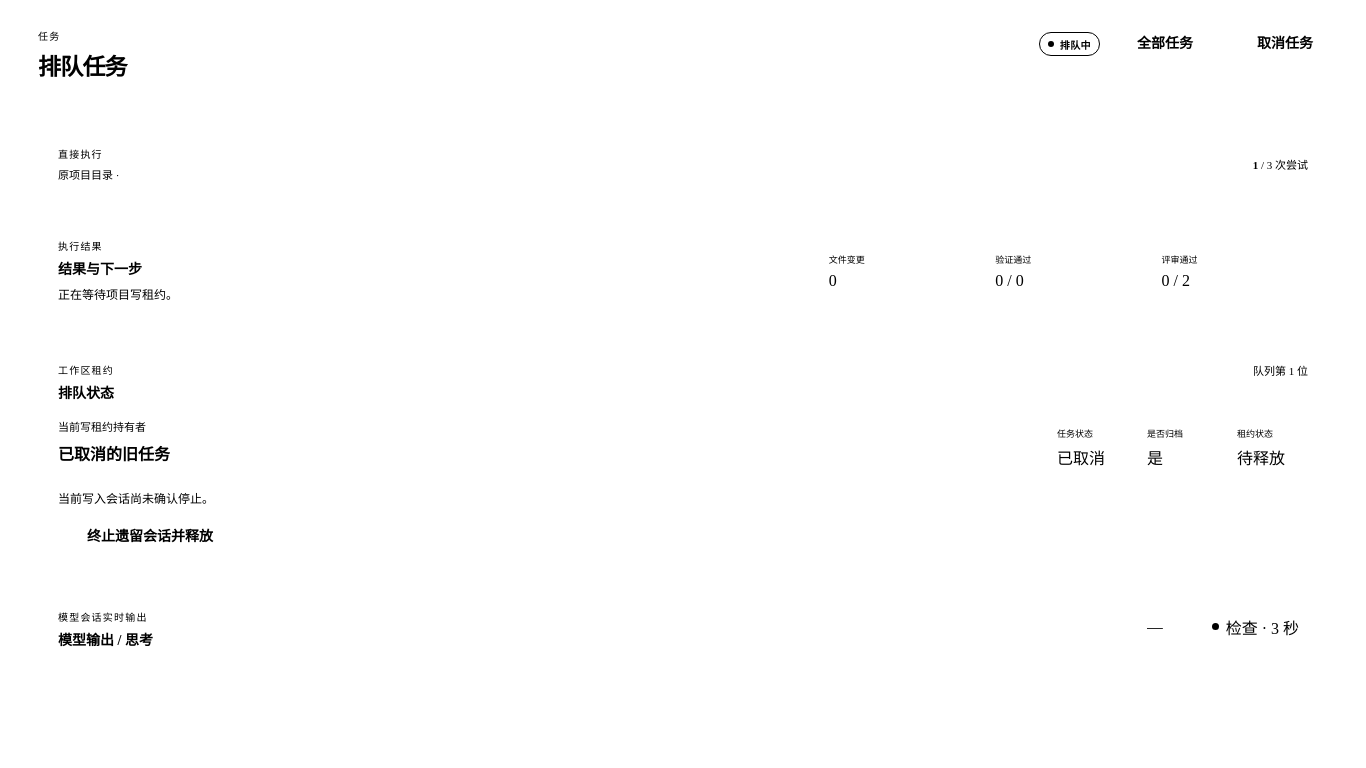
Test case: TaskDetailView judge action › keeps the blocker visible when manual reconciliation returns a 409 reason
Click the button "终止遗留会话并释放": (143, 537) x1=58 y1=521 x2=228 y2=553
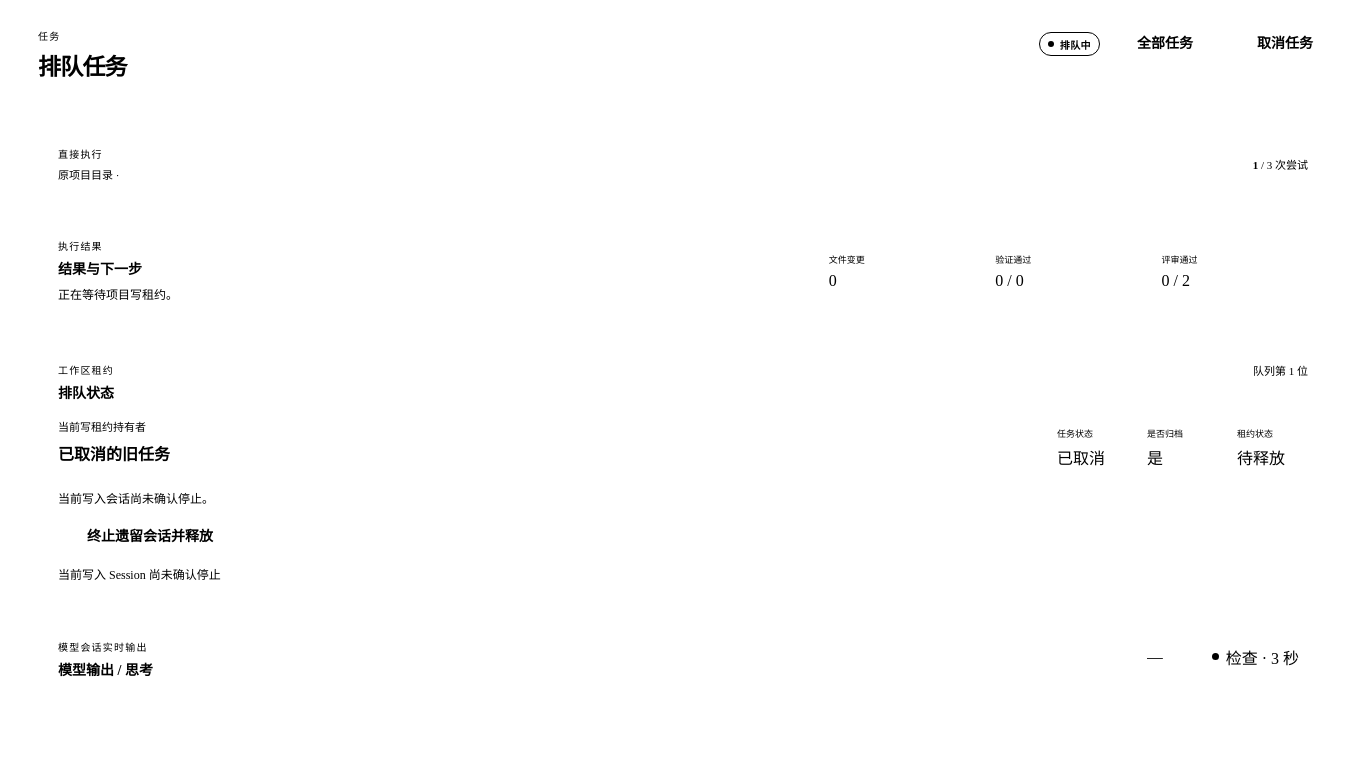
Expected: the text "已取消的旧任务" is shown, x1=58 y1=441 x2=170 y2=465
Result: the text "当前写入 Session 尚未确认停止" is shown at x1=58 y1=568 x2=221 y2=582
